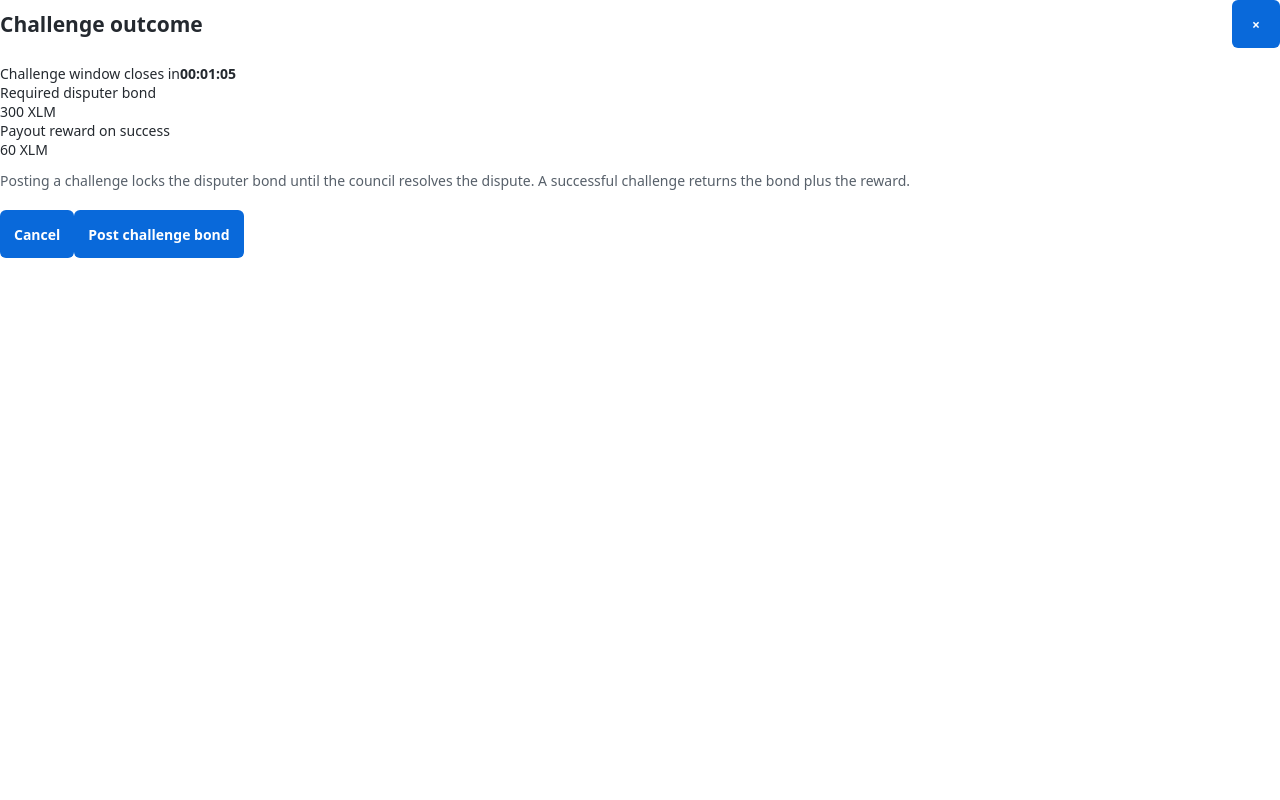
ChallengeOutcomeModal › rolls back on failure and shows the error
Click the button "Post challenge bond" at (159, 234), box [74,210,244,258]
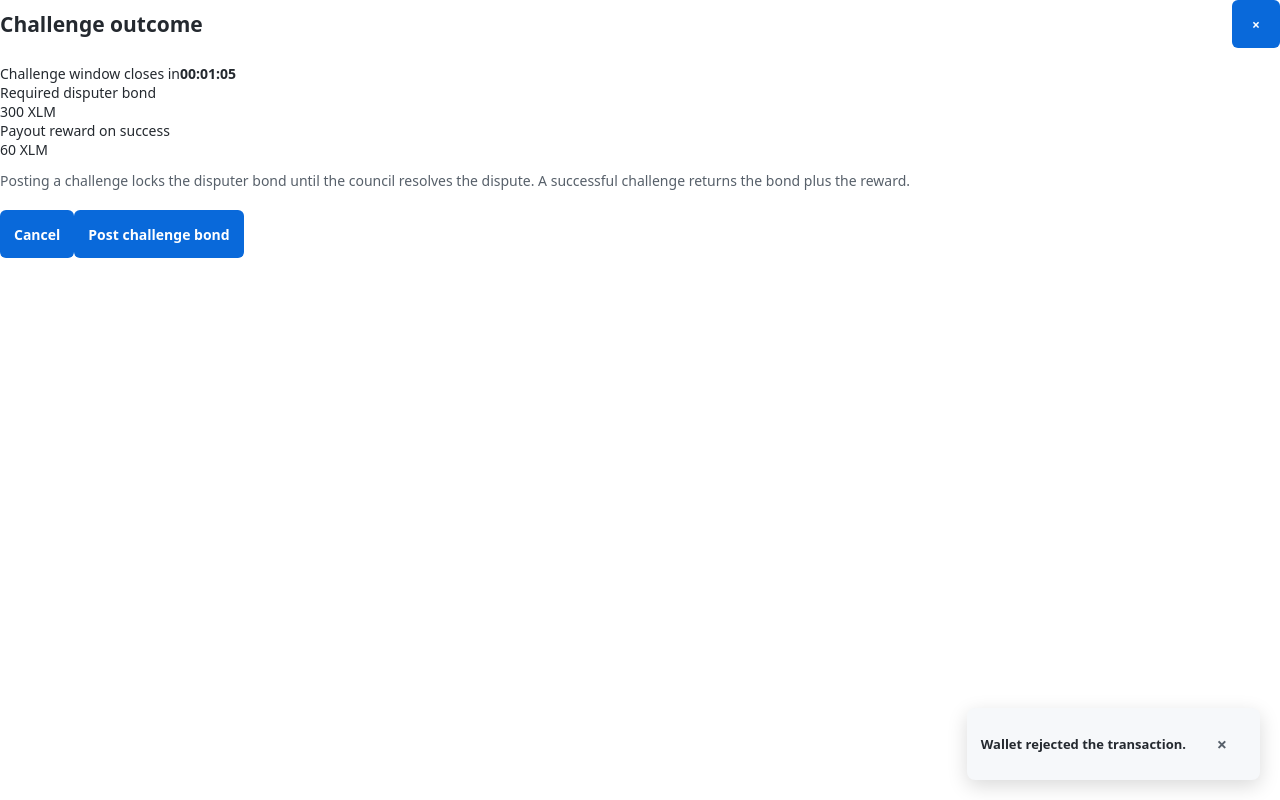
Expected: the text "Wallet rejected the transaction." is shown, [981,735,1186,753]
